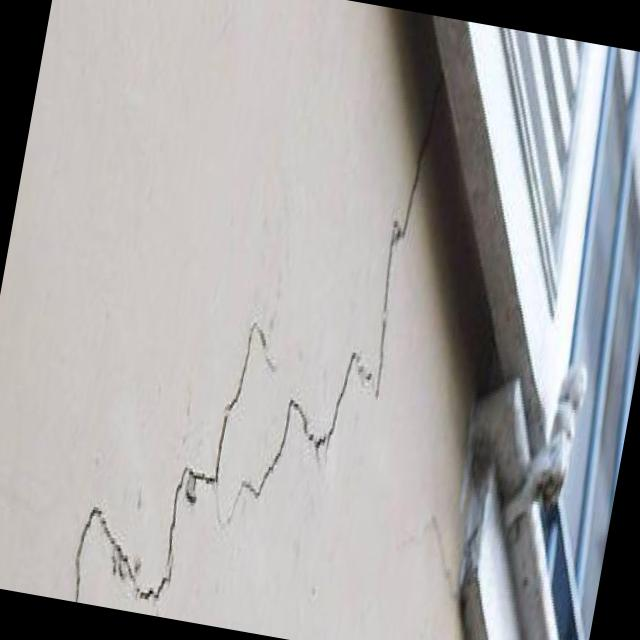crack: (163, 83, 442, 575), (73, 502, 167, 601)
